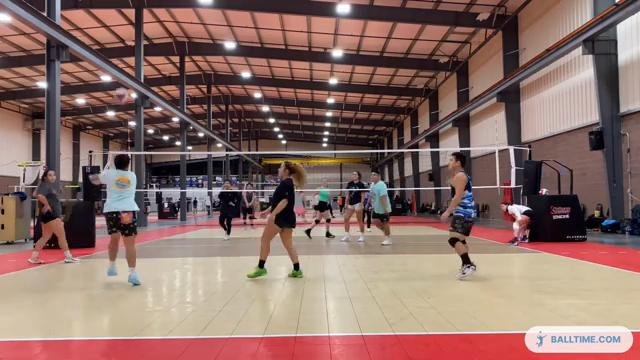ricezione: (86, 150, 145, 287)
